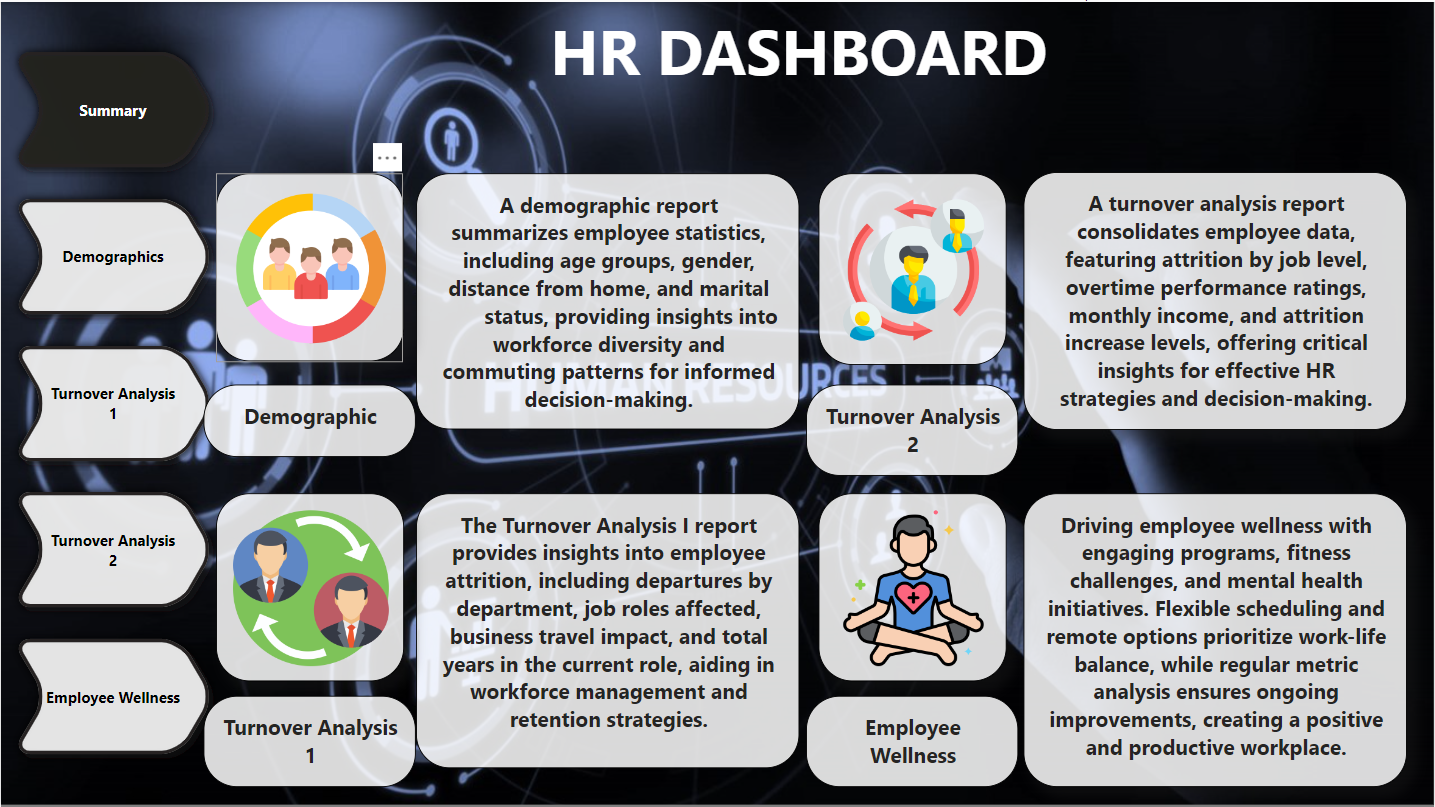

The page's visual inventory and layout, read from the dashboard file:
{"tool":"powerbi","page":{"name":"Summary","canvas":[1280,720],"ordinal":0},"visuals":[{"type":"pageNavigator","box":[0,35.7,200.9,648.6],"z":0},{"type":"textbox","box":[472.2,0,480.6,93.5],"z":1000},{"type":"textbox","box":[370.3,438.7,342.8,245.7],"z":2000},{"type":"textbox","box":[370.3,153.4,342.8,228.9],"z":3000},{"type":"textbox","box":[913.3,438.7,342.8,262.5],"z":4000},{"type":"textbox","box":[913.3,152.2,342.8,230.1],"z":5000},{"type":"image","box":[729.9,438.7,167.8,167.8],"z":6000},{"type":"textbox","box":[719.1,619.6,189.4,81.5],"z":7000},{"type":"image","box":[191.8,438.7,167.8,167.8],"z":8000},{"type":"image","box":[191.8,153.4,167.8,167.8],"z":9000},{"type":"image","box":[729.9,153.4,167.8,171.4],"z":10000},{"type":"textbox","box":[181,619.6,189.4,81.5],"z":10001},{"type":"textbox","box":[181,341.6,189.4,64.7],"z":10002},{"type":"textbox","box":[719.1,341.6,189.4,81.5],"z":10003}]}

Visuals, with their boxes in screenshot pixels (x1, y1, x2, y2), scaled from the page's 1280x720 canvas onto the 1435x807 screenshot:
pageNavigator: {"left": 0, "top": 40, "right": 225, "bottom": 767}
textbox: {"left": 529, "top": 0, "right": 1068, "bottom": 105}
textbox: {"left": 415, "top": 492, "right": 799, "bottom": 767}
textbox: {"left": 415, "top": 172, "right": 799, "bottom": 428}
textbox: {"left": 1024, "top": 492, "right": 1408, "bottom": 786}
textbox: {"left": 1024, "top": 171, "right": 1408, "bottom": 428}
image: {"left": 818, "top": 492, "right": 1006, "bottom": 680}
textbox: {"left": 806, "top": 694, "right": 1019, "bottom": 786}
image: {"left": 215, "top": 492, "right": 403, "bottom": 680}
image: {"left": 215, "top": 172, "right": 403, "bottom": 360}
image: {"left": 818, "top": 172, "right": 1006, "bottom": 364}
textbox: {"left": 203, "top": 694, "right": 415, "bottom": 786}
textbox: {"left": 203, "top": 383, "right": 415, "bottom": 455}
textbox: {"left": 806, "top": 383, "right": 1019, "bottom": 474}
